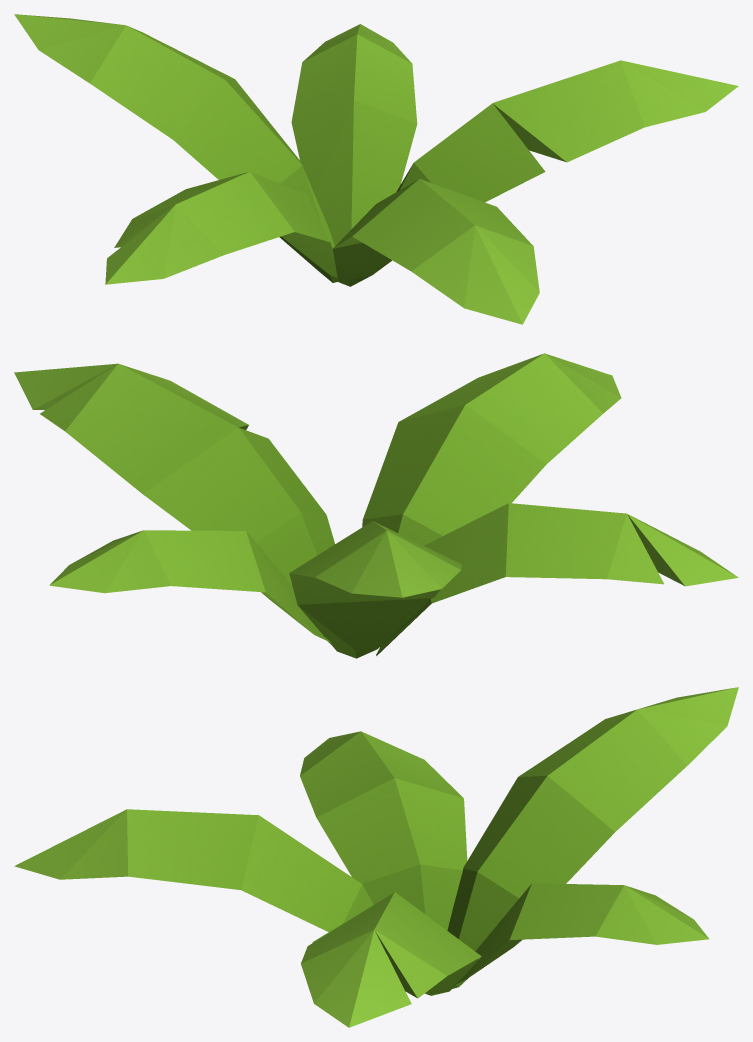
File: Plant_01.fbx
3 renders of one model, top to bottom at view 1: azimuth 30°, elevation 25°; view 2: azimuth 150°, elevation 25°; view 3: azimuth 270°, elevation 25°, orthographic. The views are drawn at different scales.
Visible parts, largest first — view 1: Plant_01; view 2: Plant_01; view 3: Plant_01.
Boxes of the visible parts, x1,y1,x2,y2 form: Plant_01: [14, 14, 738, 324]; Plant_01: [14, 353, 738, 658]; Plant_01: [14, 687, 738, 1027].
Size of the model in its own units: 92.34 by 29.56 by 86.76.
